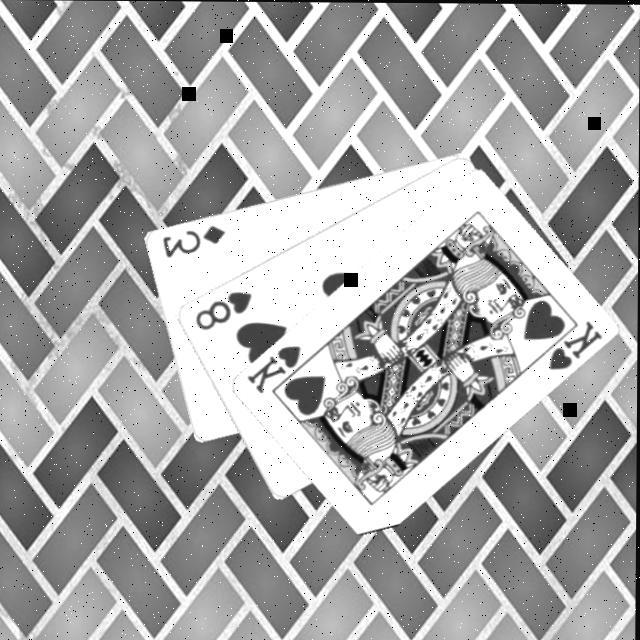3D: (160, 220, 230, 260)
8H: (193, 286, 257, 332)
KH: (246, 340, 306, 396), (546, 315, 606, 371)
